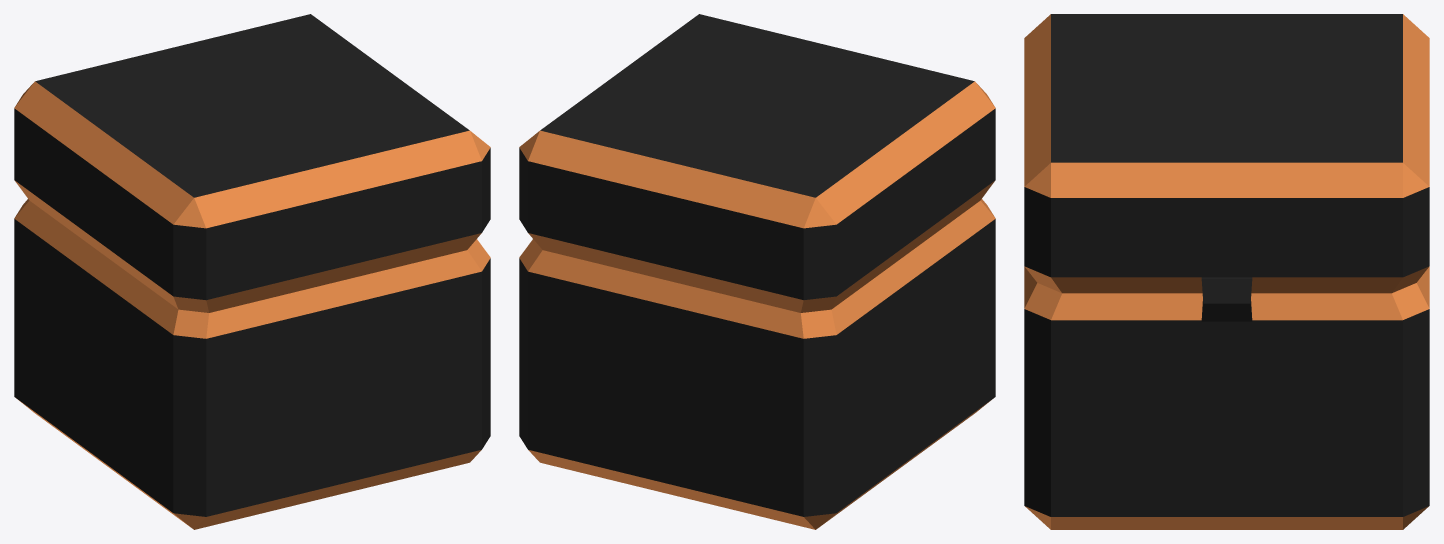
Rendered from steel_chest.glb.
3 renders of one model, left to right at view 1: azimuth 30°, elevation 25°; view 2: azimuth 150°, elevation 25°; view 3: azimuth 270°, elevation 25°, orthographic. The views are drawn at different scales.
Visible parts, largest first — view 1: Cube; view 2: Cube; view 3: Cube.
Boxes of the visible parts, left/top/right/bottom form: Cube: left=14, top=14, right=490, bottom=529; Cube: left=519, top=14, right=995, bottom=529; Cube: left=1024, top=14, right=1429, bottom=529.
Size of the model in its own units: 1.02 by 0.9955 by 0.9955.
